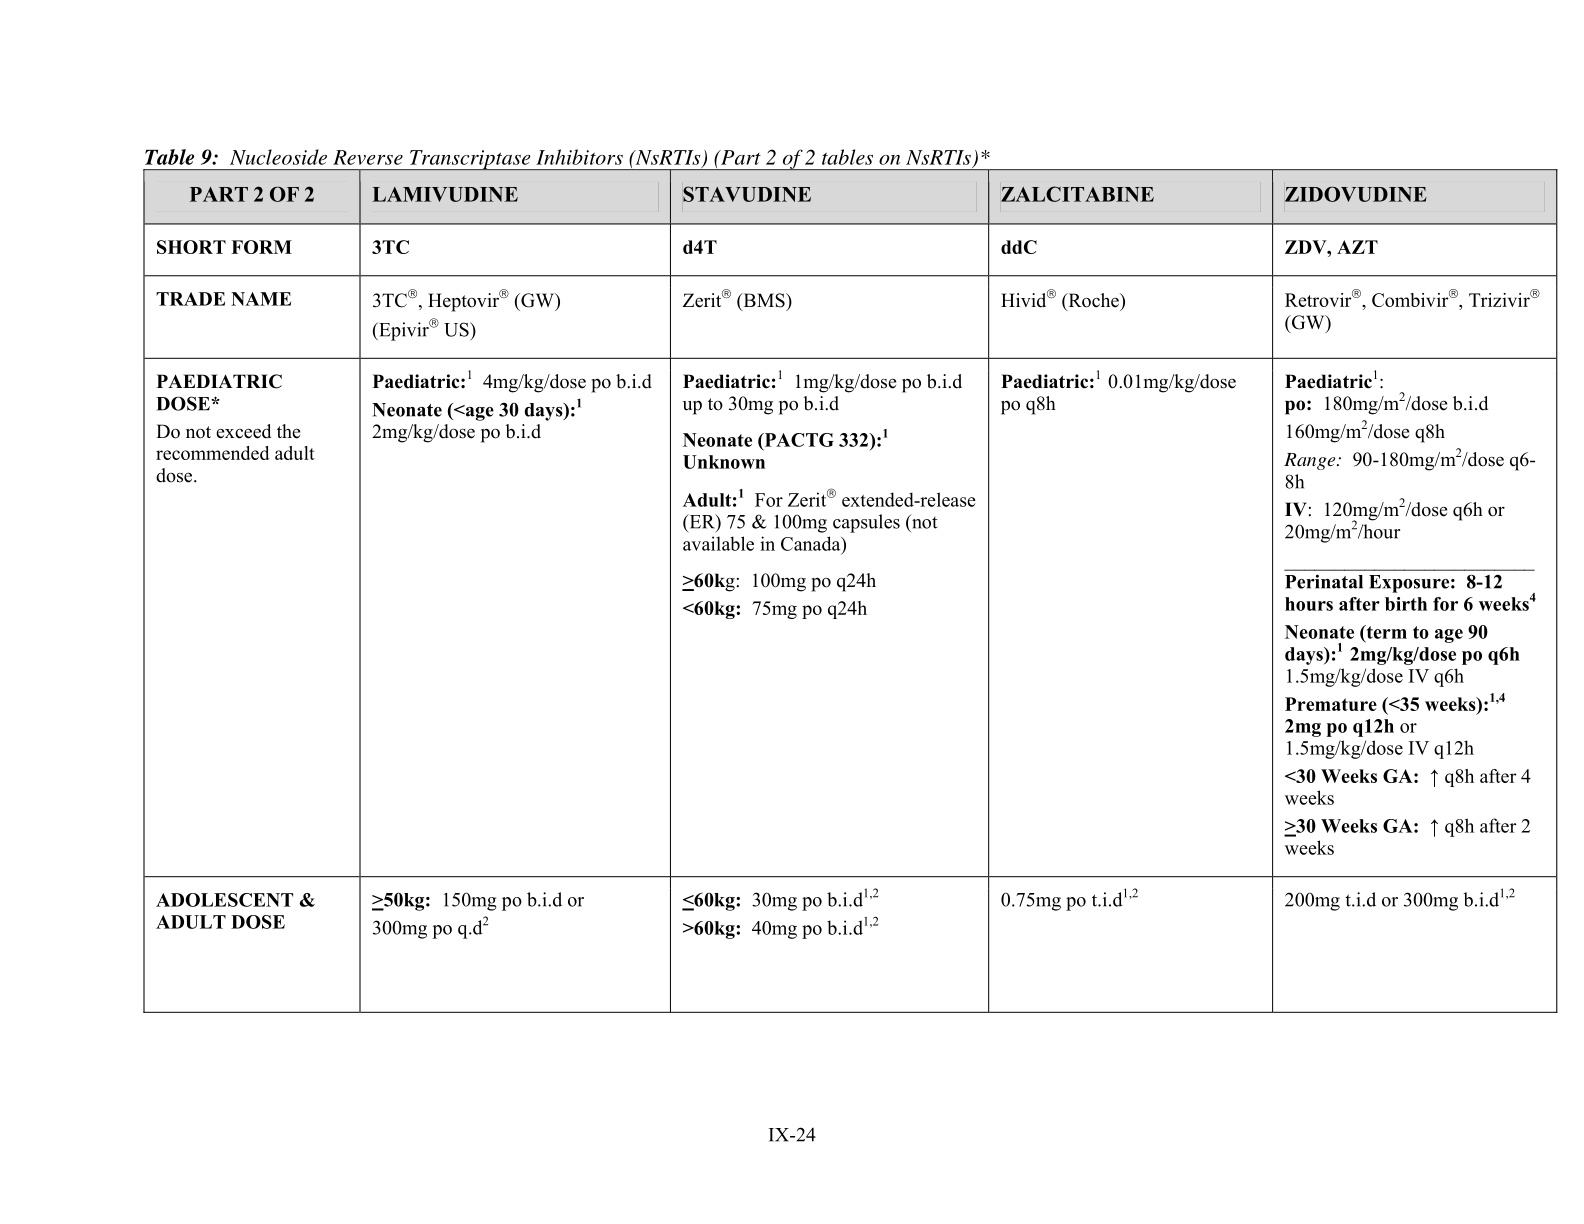full_lined: (141, 167, 1558, 1014)
